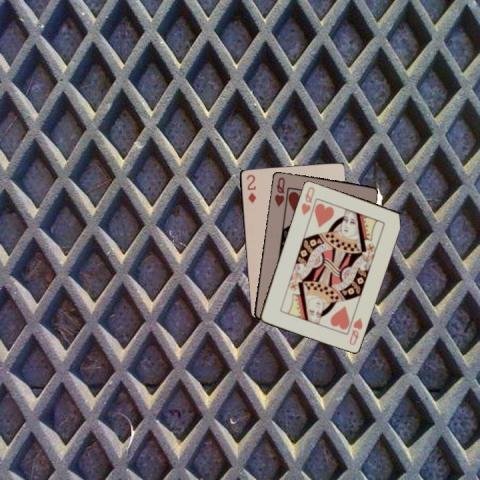2d: (244, 171, 257, 204)
Qh: (298, 183, 316, 216), (346, 314, 364, 346), (271, 174, 286, 208)
